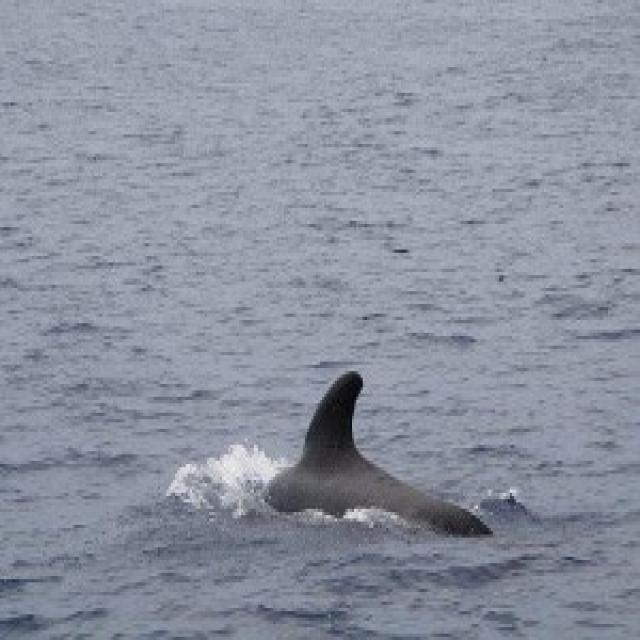Dolphin: (239, 361, 524, 564)
